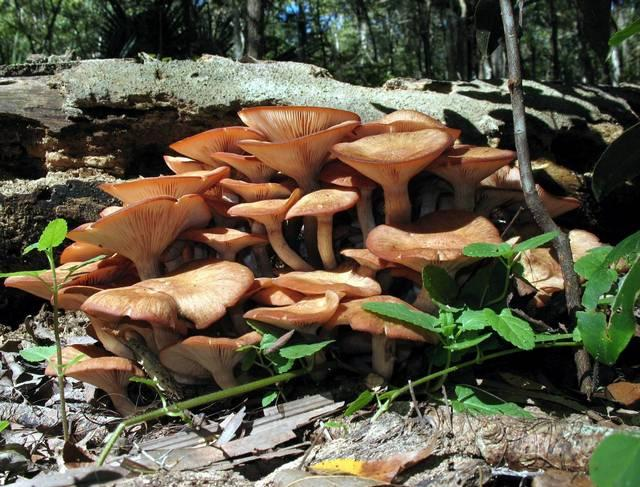edible_mushroom: (6, 103, 583, 416)
